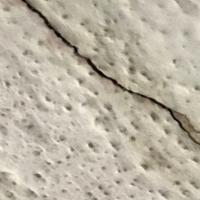crack: (13, 0, 199, 145)
